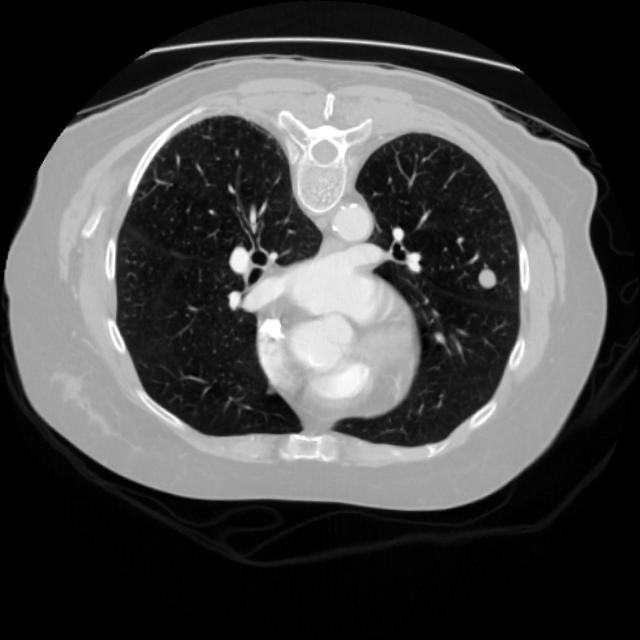nodule: (463, 258, 507, 302)
